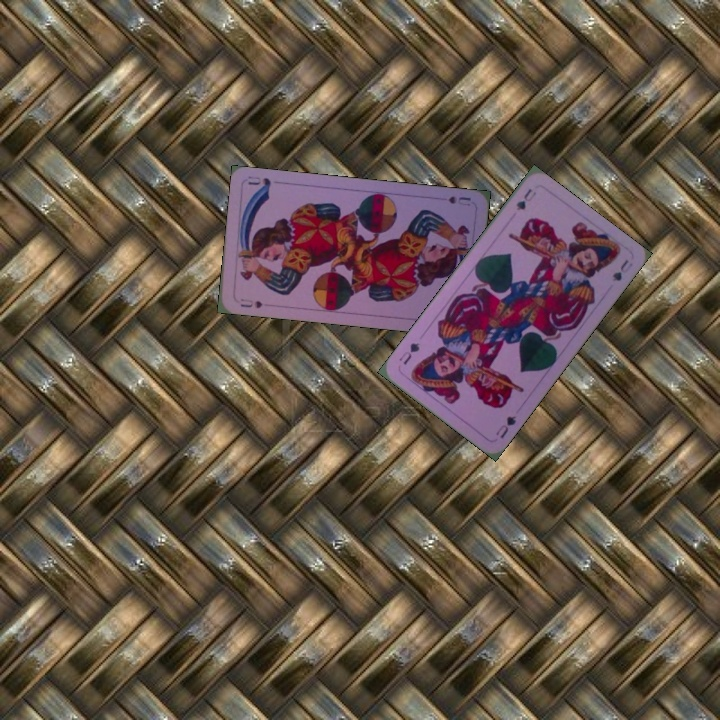GU: (491, 412, 519, 441), (512, 184, 539, 213)
SU: (444, 192, 473, 209), (236, 294, 265, 311)
